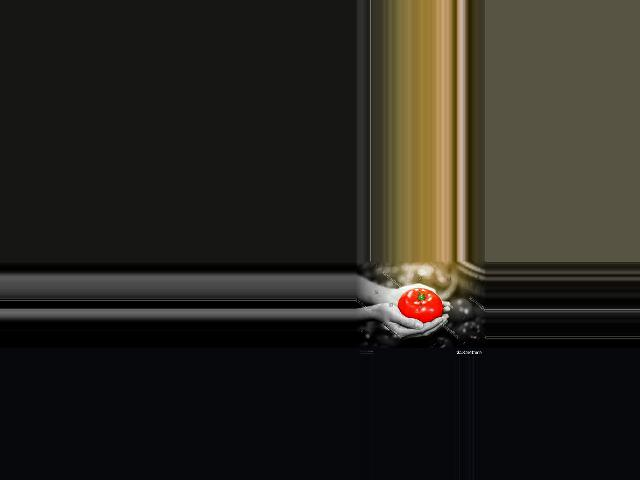tomato: (397, 288, 442, 323)
